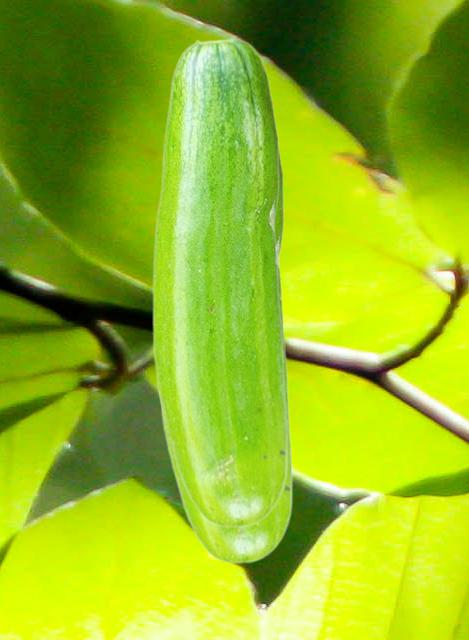cucumber: (152, 37, 287, 527), (157, 111, 292, 563)
